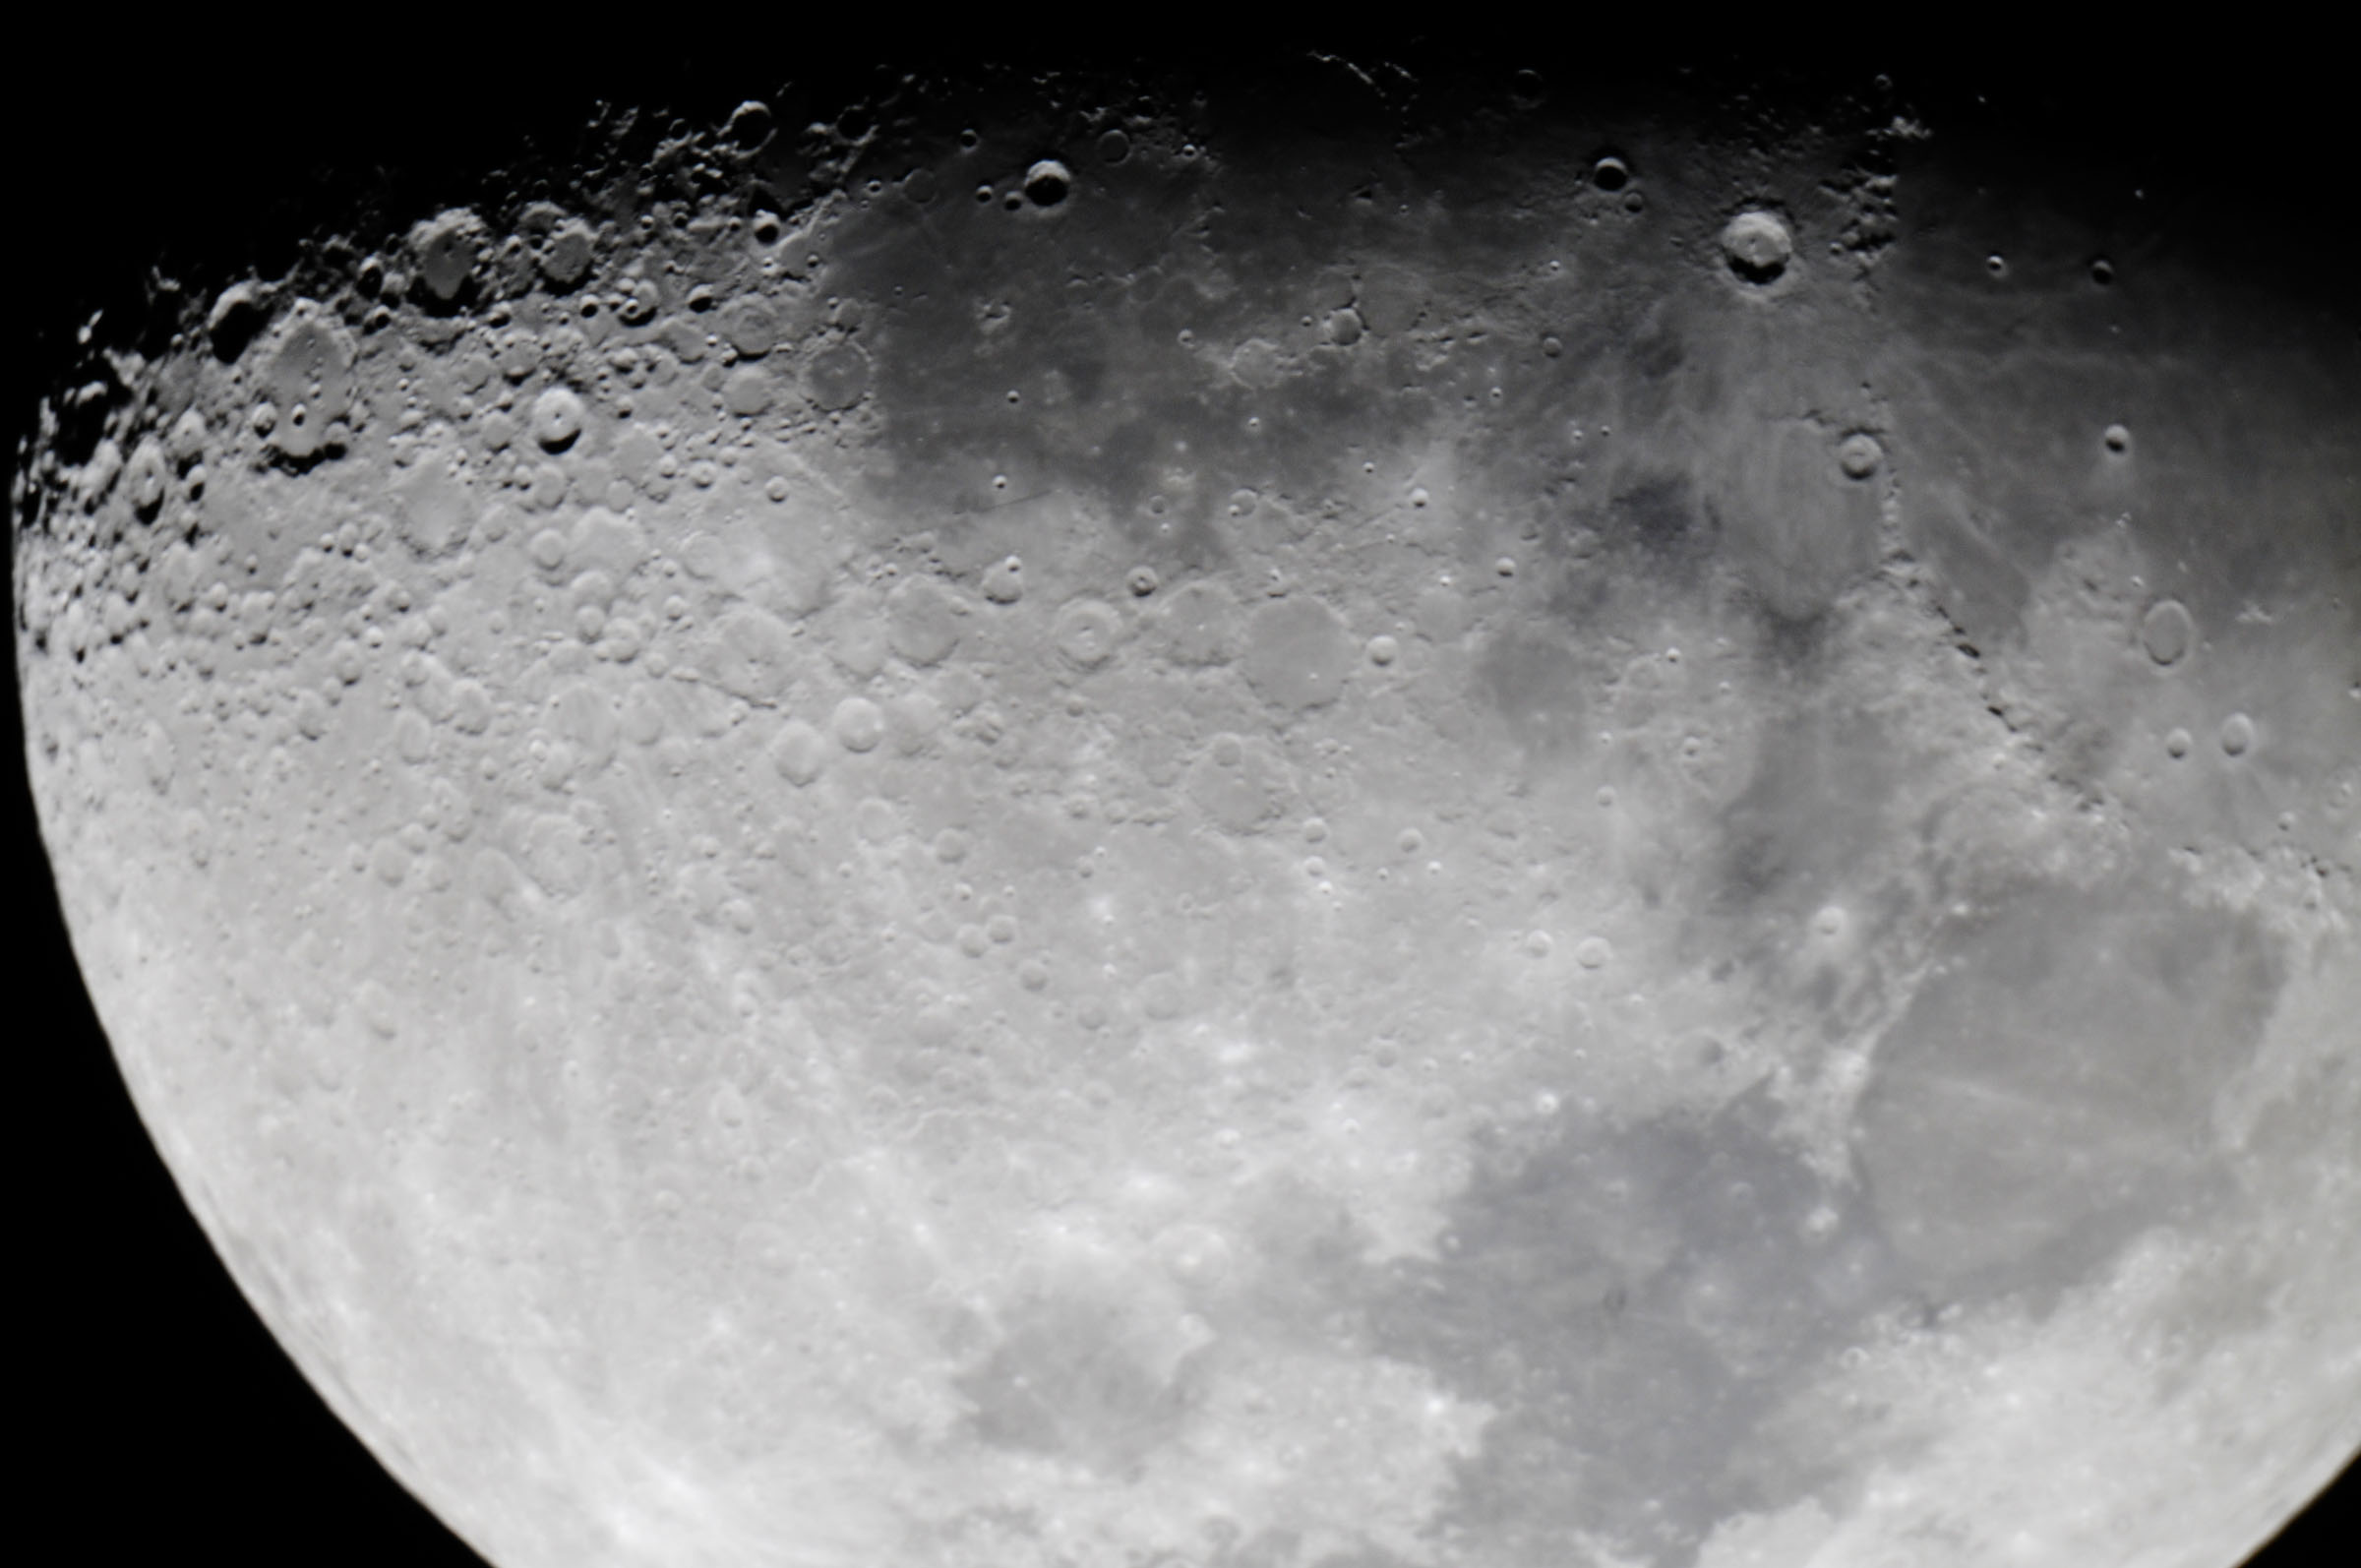crater: (1673, 180, 1824, 318), (2119, 576, 2240, 684), (866, 562, 980, 674), (782, 322, 889, 441), (1803, 397, 1915, 504), (2055, 403, 2174, 483), (1041, 590, 1136, 686), (2191, 675, 2277, 770), (1008, 149, 1087, 231), (756, 716, 830, 801), (525, 385, 604, 460), (844, 789, 915, 864), (704, 361, 775, 436), (1789, 1185, 1860, 1253), (1797, 893, 1871, 954), (1568, 922, 1624, 978), (1514, 921, 1565, 980), (1360, 619, 1412, 675), (1393, 823, 1428, 852)
